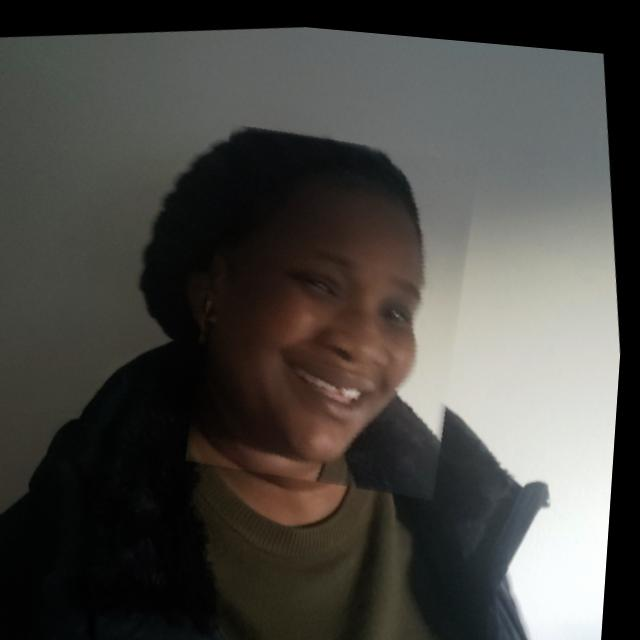happy: (165, 98, 507, 513)
